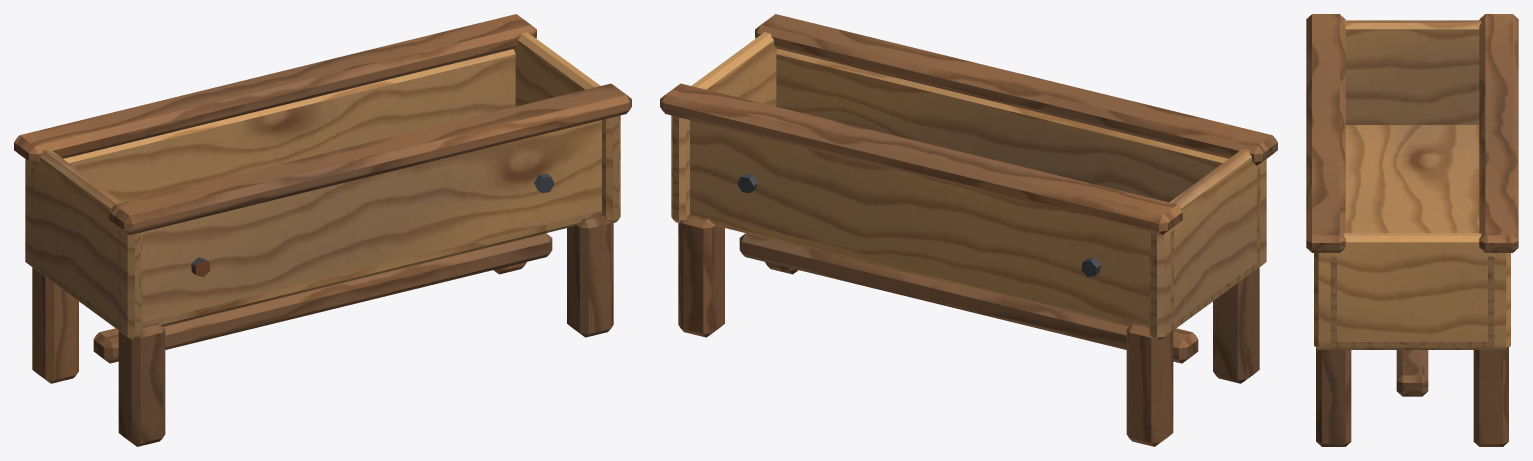
The model's file is yemlik.glb.
3 views of the same model, side by side, from view 1: azimuth 30°, elevation 25°; view 2: azimuth 150°, elevation 25°; view 3: azimuth 270°, elevation 25° (orthographic). The views are drawn at different scales.
Visible parts, largest first — view 1: yemlik; view 2: yemlik; view 3: yemlik.
Part boxes in pixels (x1,y1,x2,y2): yemlik: (14, 14, 631, 446); yemlik: (660, 14, 1277, 446); yemlik: (1306, 14, 1518, 446).
Size of the model in its own units: 1.36 by 0.61 by 0.54.
1 material, 1 textured.
